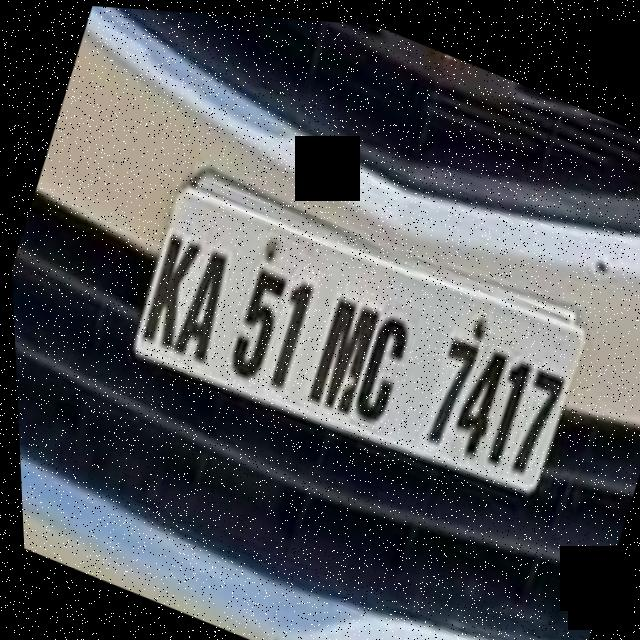1: (249, 255, 328, 401), (466, 339, 538, 475)
4: (438, 322, 516, 463)
5: (210, 246, 296, 389)
7: (494, 341, 573, 484), (407, 316, 486, 454)
A: (161, 236, 242, 370)
C: (340, 290, 423, 434)
K: (126, 222, 207, 358)
M: (289, 272, 389, 426)
